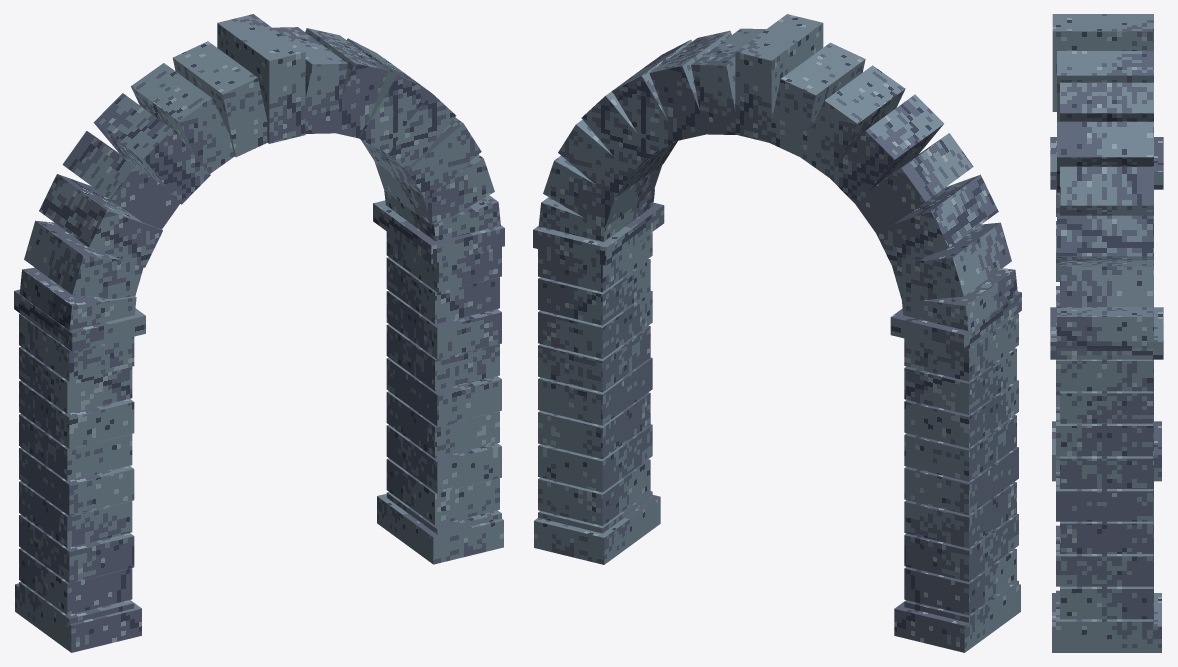
Rendered from ORN-03_Arco_de_medio_punto.gltf.
3 views of the same model, side by side, from view 1: azimuth 30°, elevation 25°; view 2: azimuth 150°, elevation 25°; view 3: azimuth 270°, elevation 25° (orthographic). The views are drawn at different scales.
Visible parts, largest first — view 1: ORN-03_Arco_de_medio_punto-col; view 2: ORN-03_Arco_de_medio_punto-col; view 3: ORN-03_Arco_de_medio_punto-col.
Boxes of the visible parts, x1,y1,x2,y2 form: ORN-03_Arco_de_medio_punto-col: (14,14,504,652); ORN-03_Arco_de_medio_punto-col: (533,14,1021,652); ORN-03_Arco_de_medio_punto-col: (1050,14,1163,652).
Bounding box in the file's own units: 3.01 × 3.6 × 0.7.
Materials: 1 (1 with a texture image).
